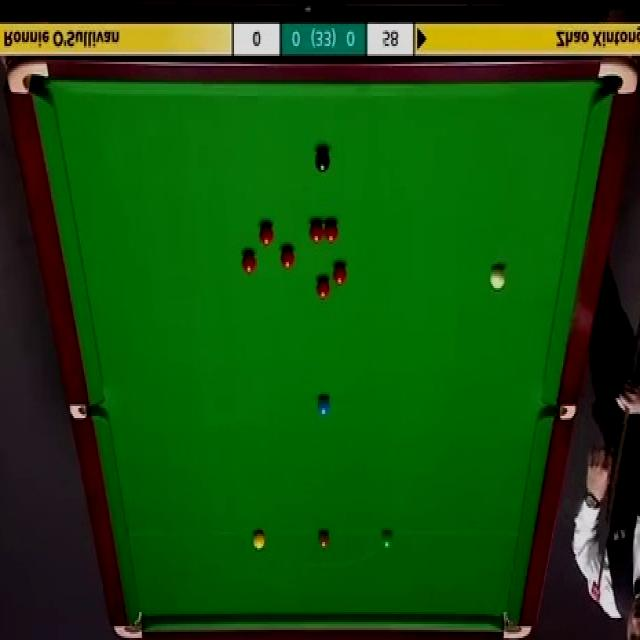black-ball: (315, 147, 331, 173)
blue-ball: (317, 398, 330, 416)
brown-ball: (317, 531, 330, 548)
green-ball: (382, 528, 396, 552)
red-ball: (280, 246, 295, 272), (308, 222, 324, 244), (316, 278, 331, 301), (241, 253, 256, 275), (260, 223, 274, 246), (333, 266, 346, 285), (325, 223, 337, 243)
white-ball: (490, 266, 506, 291)
yellow-ball: (252, 530, 265, 553)
